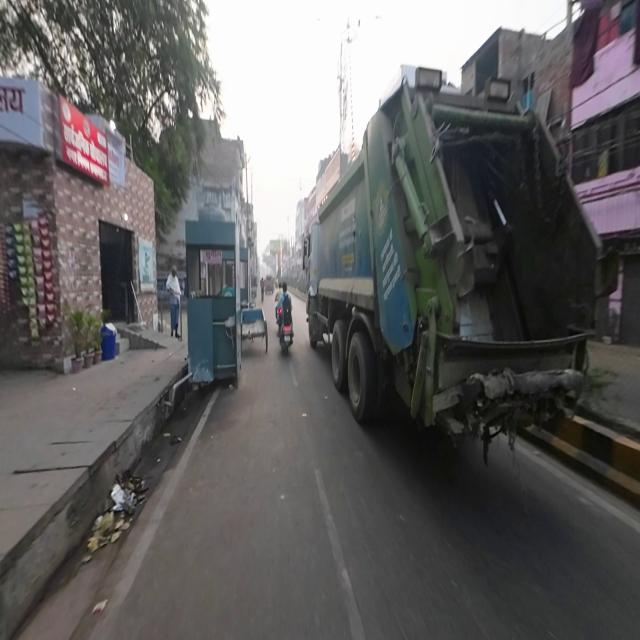Garbage: (88, 468, 146, 555)
